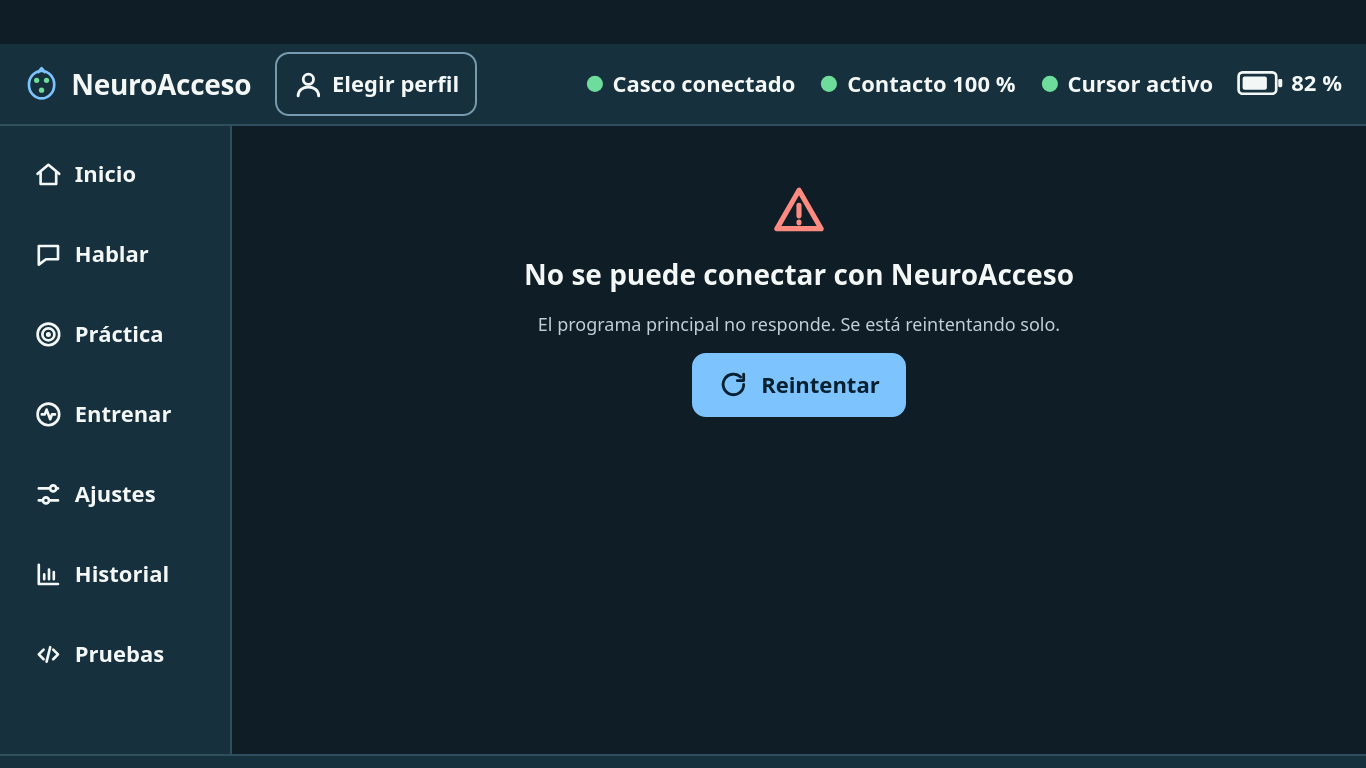
estados de error › /: si el motor no responde, ofrece reintentar
(page scrolled)
expect the message shows "No se puede conectar con NeuroAcceso": met, box [524,255,1074,293]
What coordinates should you click on to do the following:
click the button "Reintentar"
I would click on:
 (799, 385)
Its box is [692,353,906,417].
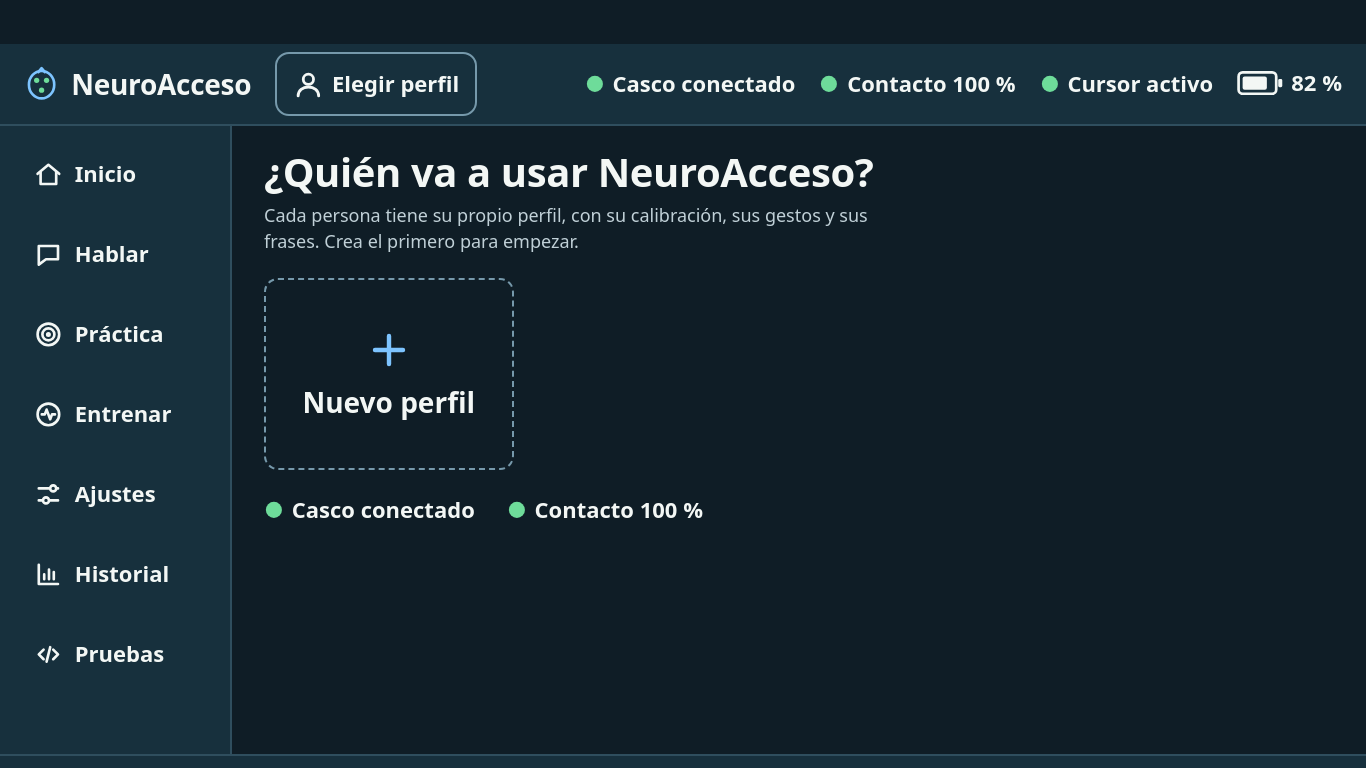
expect the button "Nuevo perfil" is shown: met, box [264,278,514,470]
